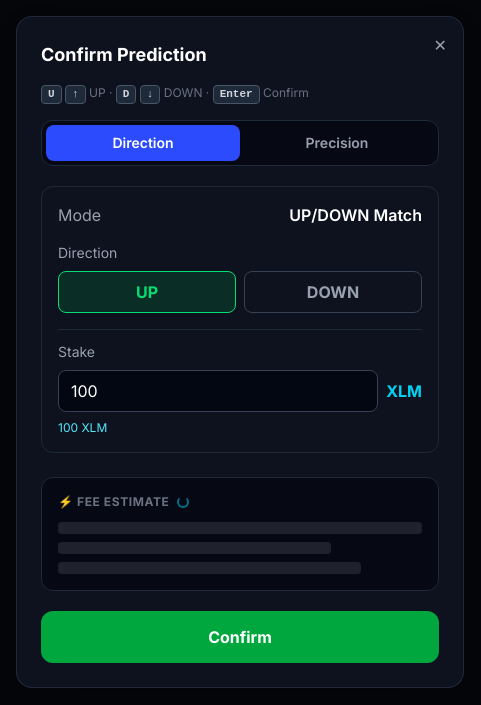
Test: BetModal — transaction pending state (#163) › shows spinner and "Preparing Transaction" text while in-flight
Click the button "Confirm" at [240, 637], box [41,611,439,663]
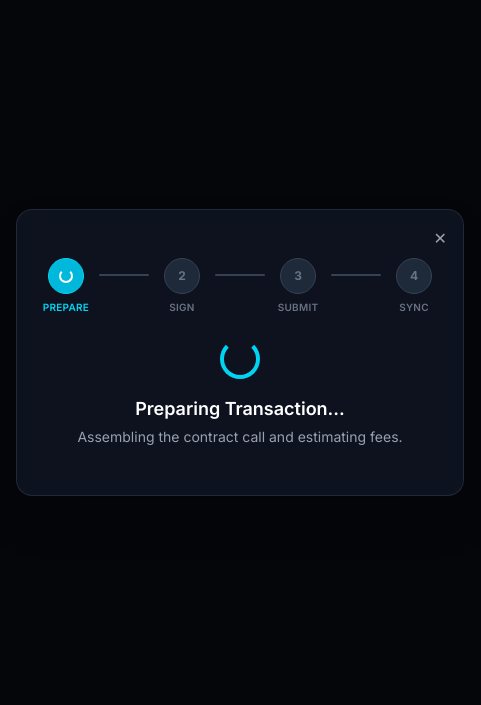
Now the heading "Preparing Transaction..." is shown, box [135,398,345,418]
Now the heading "Confirm" is gone
